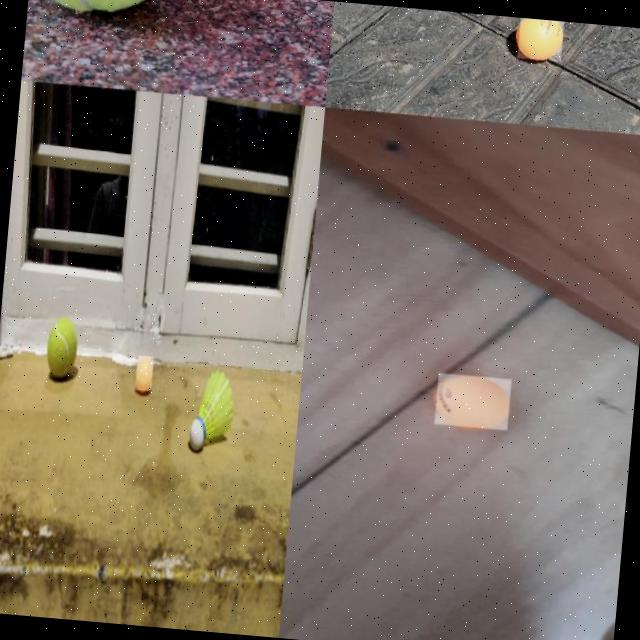ping-pong-ball: (432, 372, 510, 429), (516, 16, 563, 61), (134, 354, 153, 390)
